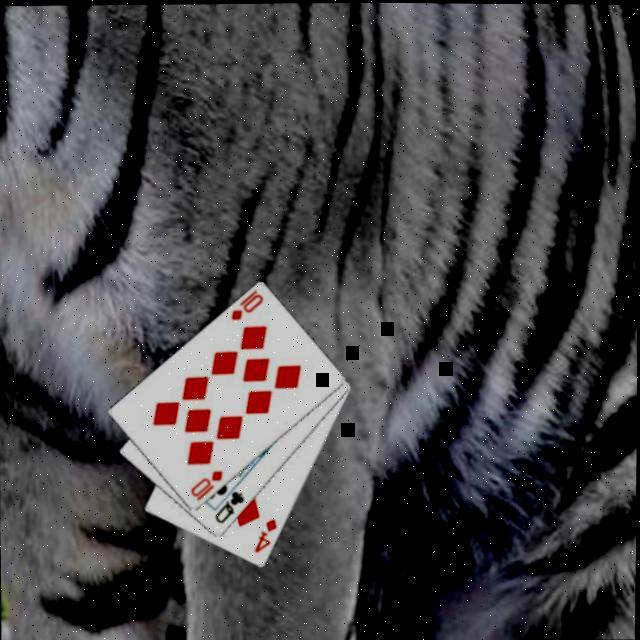10D: (226, 284, 265, 322), (187, 466, 226, 502)
4D: (250, 513, 280, 554)
QC: (210, 486, 247, 525)
